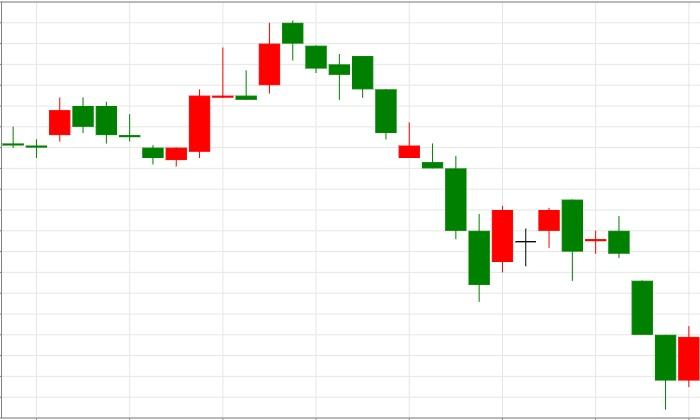bearish_engulfing_fall: (468, 199, 583, 302)
